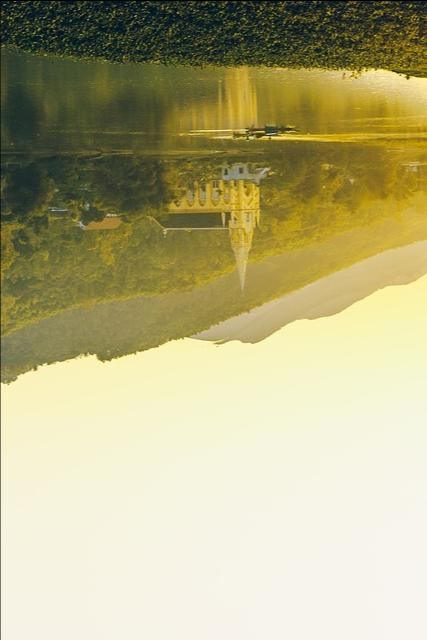Non_Gorille: (0, 0, 420, 535)
